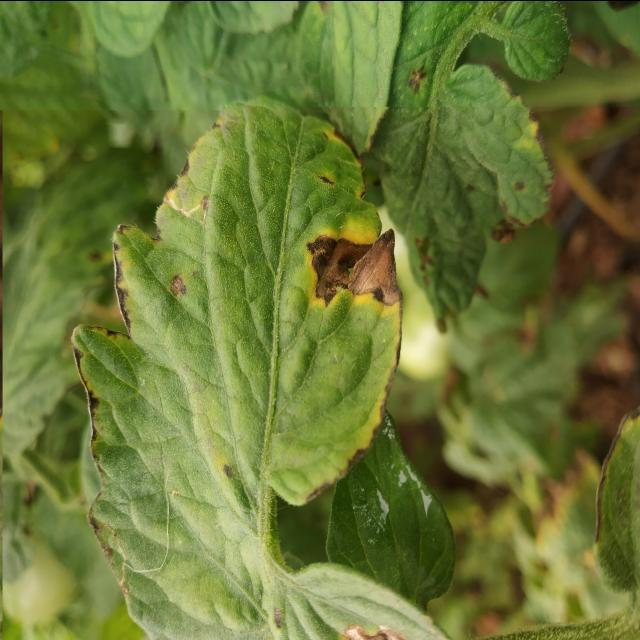Tomato mosaic virus leaf: (65, 90, 404, 508)
